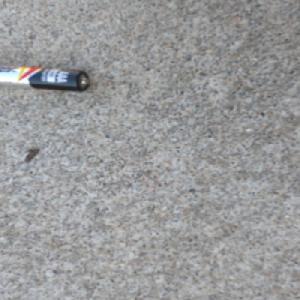Battery: (0, 64, 91, 92)
